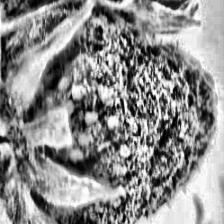Powdery Mildew Fruit: (0, 4, 220, 224)
